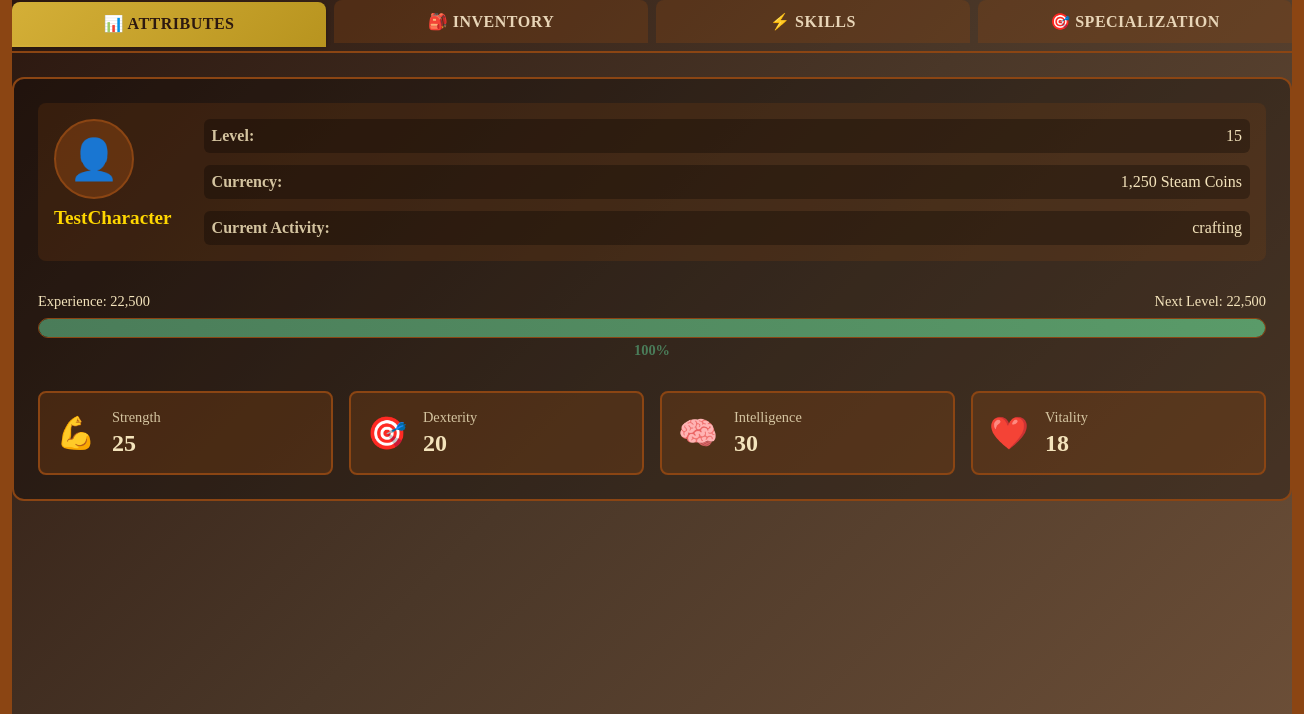
Test case: CharacterPanel › Specialization Tab › displays role descriptions
What coordinates should you click on to do the following:
click the button "🎯 Specialization"
I would click on:
 (1135, 22)
Its box is [978,0,1292,43].
(page scrolled)
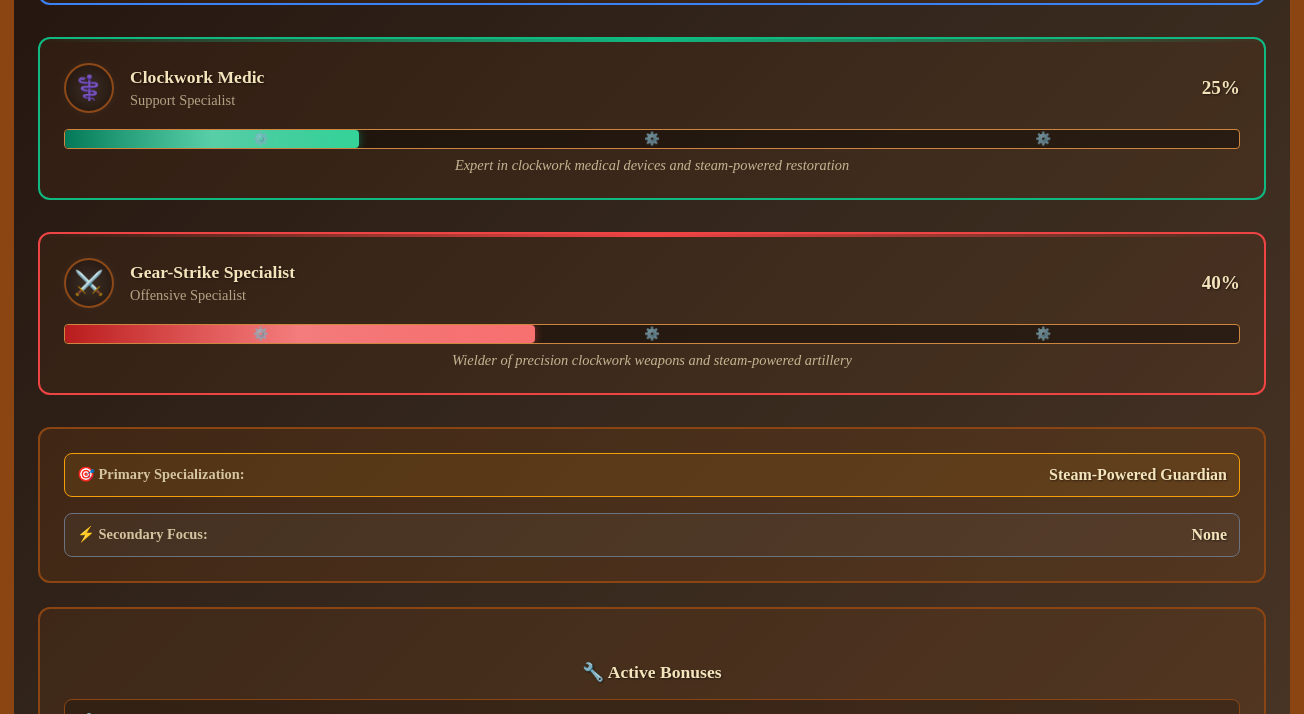
Check: the text "Expert in clockwork medical devices and steam-powered restoration" is shown, box [455,157,849,173]
Check: the text "Wielder of precision clockwork weapons and steam-powered artillery" is shown, box [452,352,852,368]
